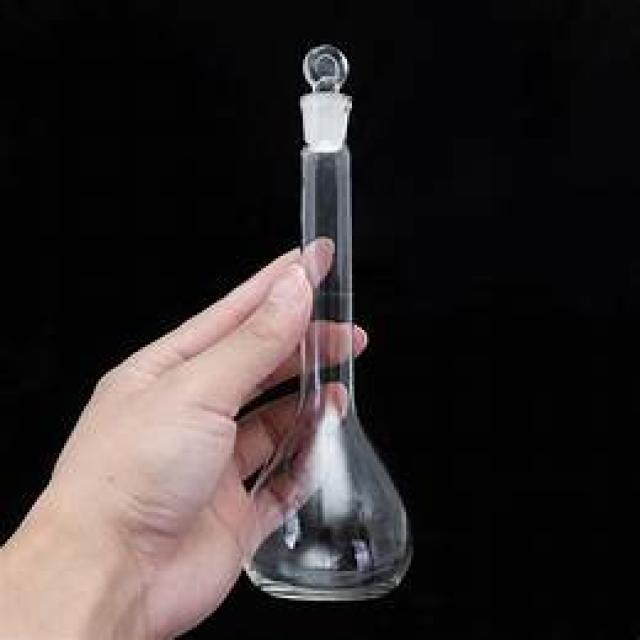Volumetric flask: (241, 34, 412, 597)
